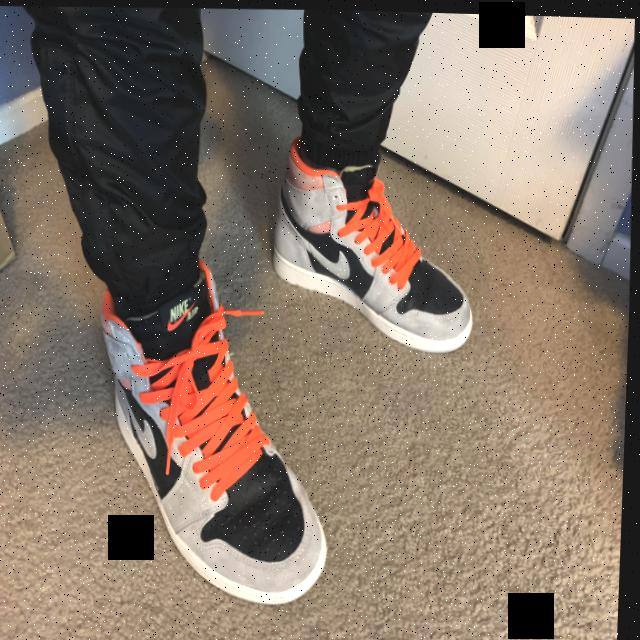shoes: (45, 218, 359, 640), (216, 31, 543, 404)
